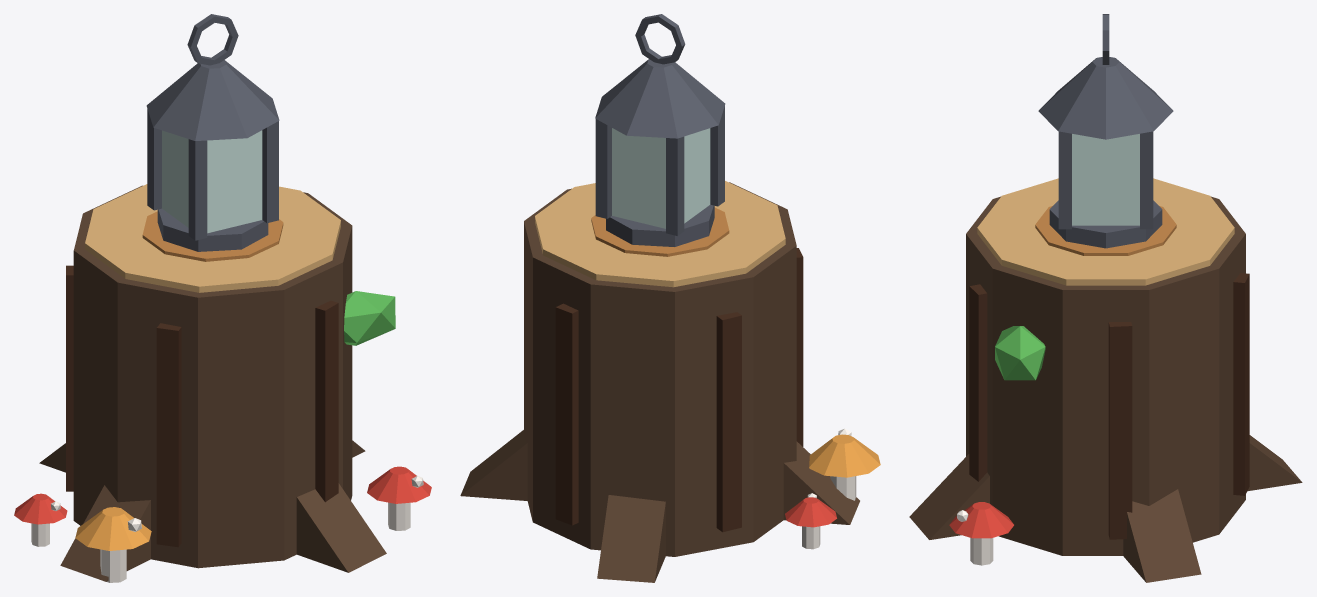
Rendered from CatCafe_Decor_LanternStump.glb.
The picture shows the model from 3 angles, left to right: view 1: azimuth 30°, elevation 25°; view 2: azimuth 150°, elevation 25°; view 3: azimuth 270°, elevation 25°; orthographic projection. The views are drawn at different scales.
Parts seen in each view (by area): view 1: CatCafe_Decor_LanternStump, CatCafe_Decor_LanternStump_Glass; view 2: CatCafe_Decor_LanternStump, CatCafe_Decor_LanternStump_Glass; view 3: CatCafe_Decor_LanternStump, CatCafe_Decor_LanternStump_Glass.
Part boxes in pixels (x1,y1,x2,y2): CatCafe_Decor_LanternStump: (14,14,431,582); CatCafe_Decor_LanternStump_Glass: (162,130,262,233); CatCafe_Decor_LanternStump: (460,14,880,582); CatCafe_Decor_LanternStump_Glass: (612,128,710,228); CatCafe_Decor_LanternStump: (909,14,1302,582); CatCafe_Decor_LanternStump_Glass: (1072,134,1139,225).
Bounding box in the file's own units: 1.8 × 2.38 × 1.74.
1 material, 1 textured.
